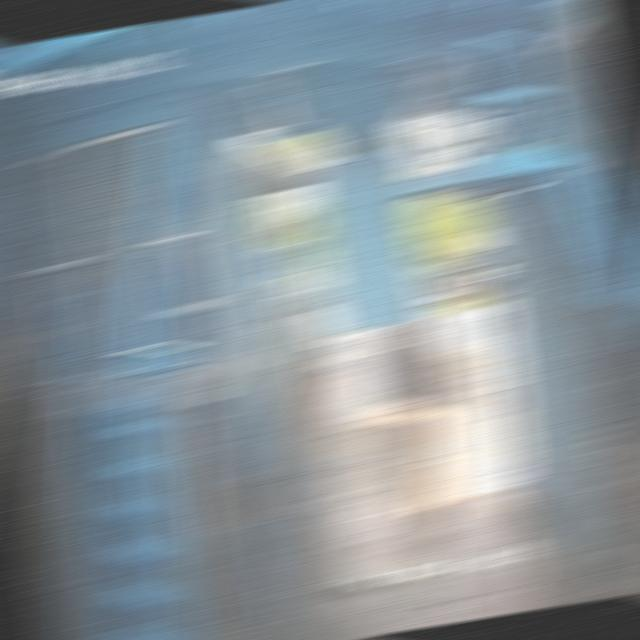cement_mixer_truck: (364, 254, 448, 396)
